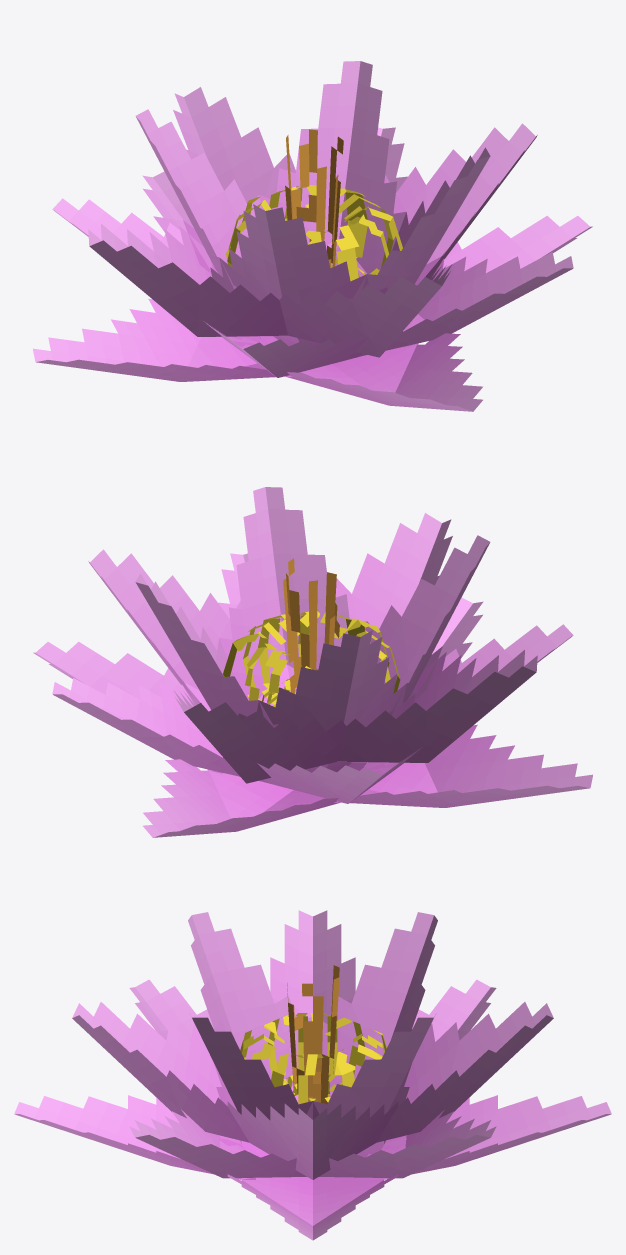
The model's file is Lily.fbx.
The picture shows the model from 3 angles, top to bottom: view 1: azimuth 30°, elevation 25°; view 2: azimuth 150°, elevation 25°; view 3: azimuth 270°, elevation 25°; orthographic projection. The views are drawn at different scales.
Parts seen in each view (by area): view 1: plane_7, plane_14, plane_3, plane_5, plane_1, plane_13, plane_8, plane_15, plane_6, plane_12, plane_4, plane (+6 smaller); view 2: plane_4, plane_14, plane_3, plane_6, plane_2, plane_15, plane_11, plane_5, plane_13, plane_12, plane_7, plane (+6 smaller); view 3: plane_13, plane_15, plane_5, plane_6, plane_12, plane_14, plane_1, plane_2, plane, plane_8, plane_11, plane_4 (+5 smaller).
Boxes of the visible parts, x1,y1,x2,y2 form: plane_7: (259,61,406,276); plane_14: (88,224,288,336); plane_3: (33,298,288,381); plane_5: (210,204,387,346); plane_1: (285,333,482,411); plane_13: (279,256,452,357); plane_8: (358,252,573,356); plane_15: (173,87,295,274); plane_6: (135,109,277,344); plane_12: (384,123,537,277); plane_4: (347,147,490,301); plane: (402,215,592,347); plane_4: (219,487,366,705); plane_14: (337,650,537,762); plane_3: (337,724,592,807); plane_6: (238,630,415,772); plane_2: (143,759,340,837); plane_15: (173,682,346,783); plane_11: (52,678,267,782); plane_5: (348,535,490,770); plane_13: (335,513,452,700); plane_12: (88,549,241,703); plane_7: (135,573,278,727); plane: (33,641,223,773); plane_13: (72,1002,249,1142); plane_15: (376,1002,553,1142); plane_5: (188,912,311,1157); plane_6: (322,912,437,1157); plane_12: (227,1101,398,1179); plane_14: (270,910,355,1023); plane_1: (14,1095,255,1179); plane_2: (370,1095,611,1179); plane: (227,1174,398,1240); plane_8: (129,1109,306,1178); plane_11: (319,1109,496,1178); plane_4: (190,1014,319,1120).
Size of the model in its own units: 262 by 110 by 262.
Materials: 3 (3 with a texture image).
